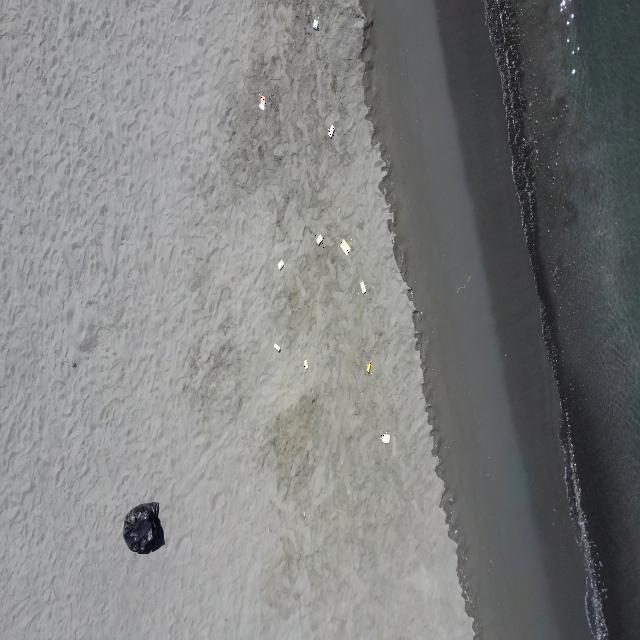Garbage: (123, 503, 163, 552), (340, 239, 350, 255), (380, 432, 390, 443), (327, 123, 335, 136), (258, 95, 264, 110), (312, 16, 318, 30), (272, 343, 280, 352), (360, 280, 366, 292), (316, 234, 323, 244), (366, 362, 372, 373), (276, 259, 283, 268), (303, 359, 307, 368), (571, 68, 575, 74)
